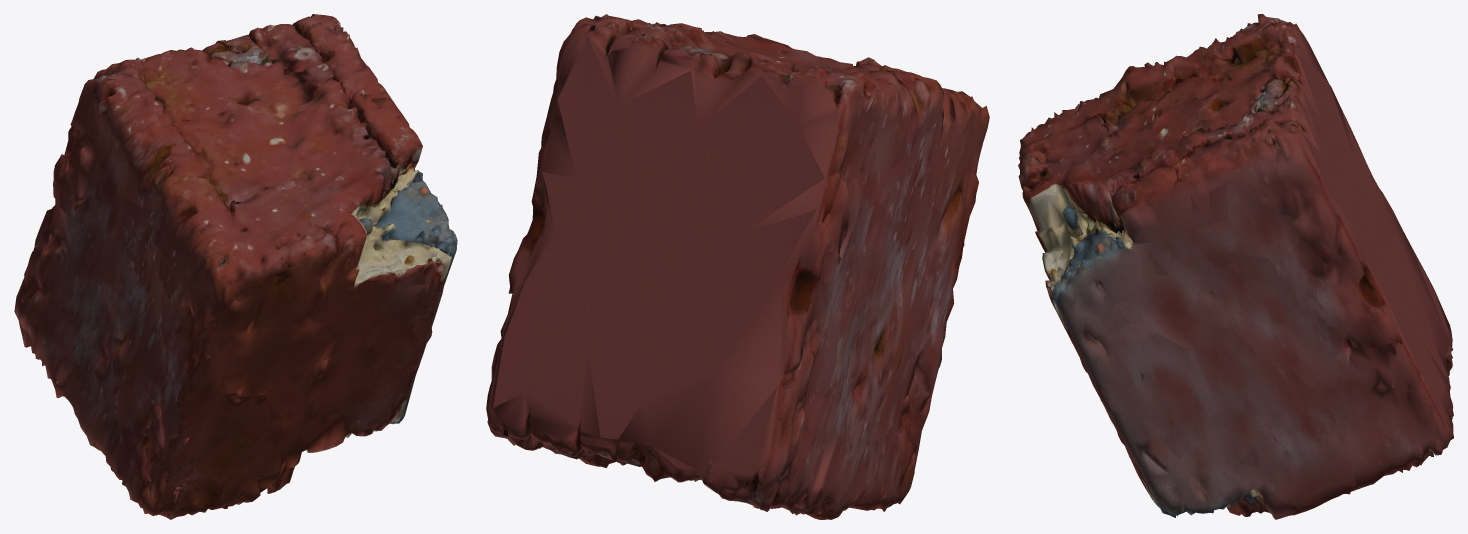
The model's file is tripo_convert_f2d290bc-ddb3-483e-bd2a-2c97c02c0367.fbx.
3 views of the same model, side by side, from view 1: azimuth 30°, elevation 25°; view 2: azimuth 150°, elevation 25°; view 3: azimuth 270°, elevation 25° (orthographic). The views are drawn at different scales.
Parts seen in each view (by area): view 1: tripo_node_f2d290bc; view 2: tripo_node_f2d290bc; view 3: tripo_node_f2d290bc.
Part boxes in pixels (left/top/right/bottom): tripo_node_f2d290bc: left=14, top=14, right=457, bottom=519; tripo_node_f2d290bc: left=486, top=14, right=989, bottom=519; tripo_node_f2d290bc: left=1018, top=14, right=1453, bottom=519.
Bounding box in the file's own units: 0.5376 × 0.8309 × 0.747.
Materials: 1 (1 with a texture image).
